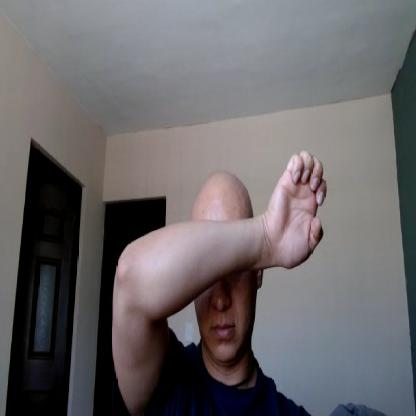E: (267, 151, 328, 270)
